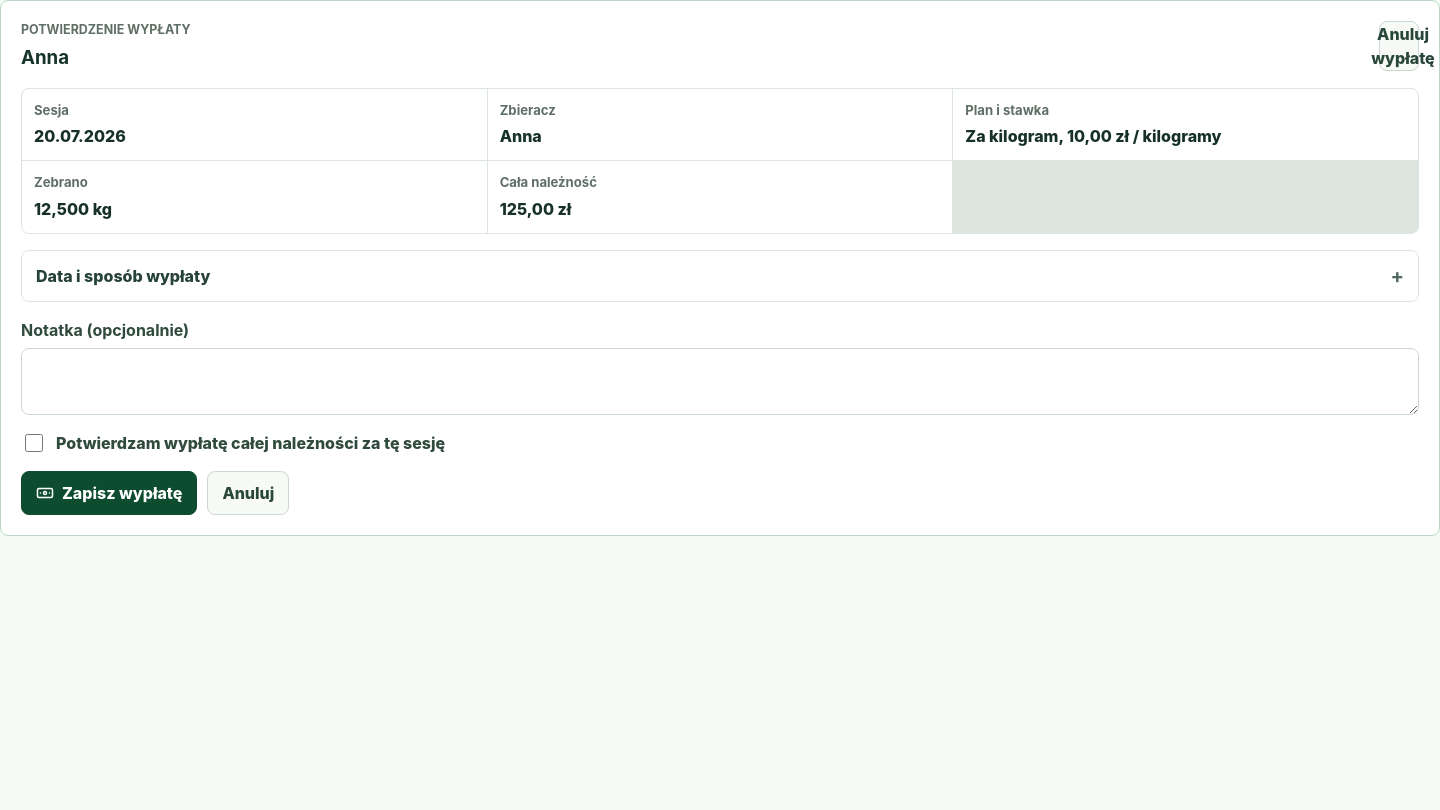
PaymentConfirmationForm › shows the existing author and time as a conflict, not a new success
The width and height of the screenshot is (1440, 810).
Click the checkbox labelled "Potwierdzam wypłatę całej należności za tę sesję" at (34, 443), box top-left (25, 434), bottom-right (43, 452)
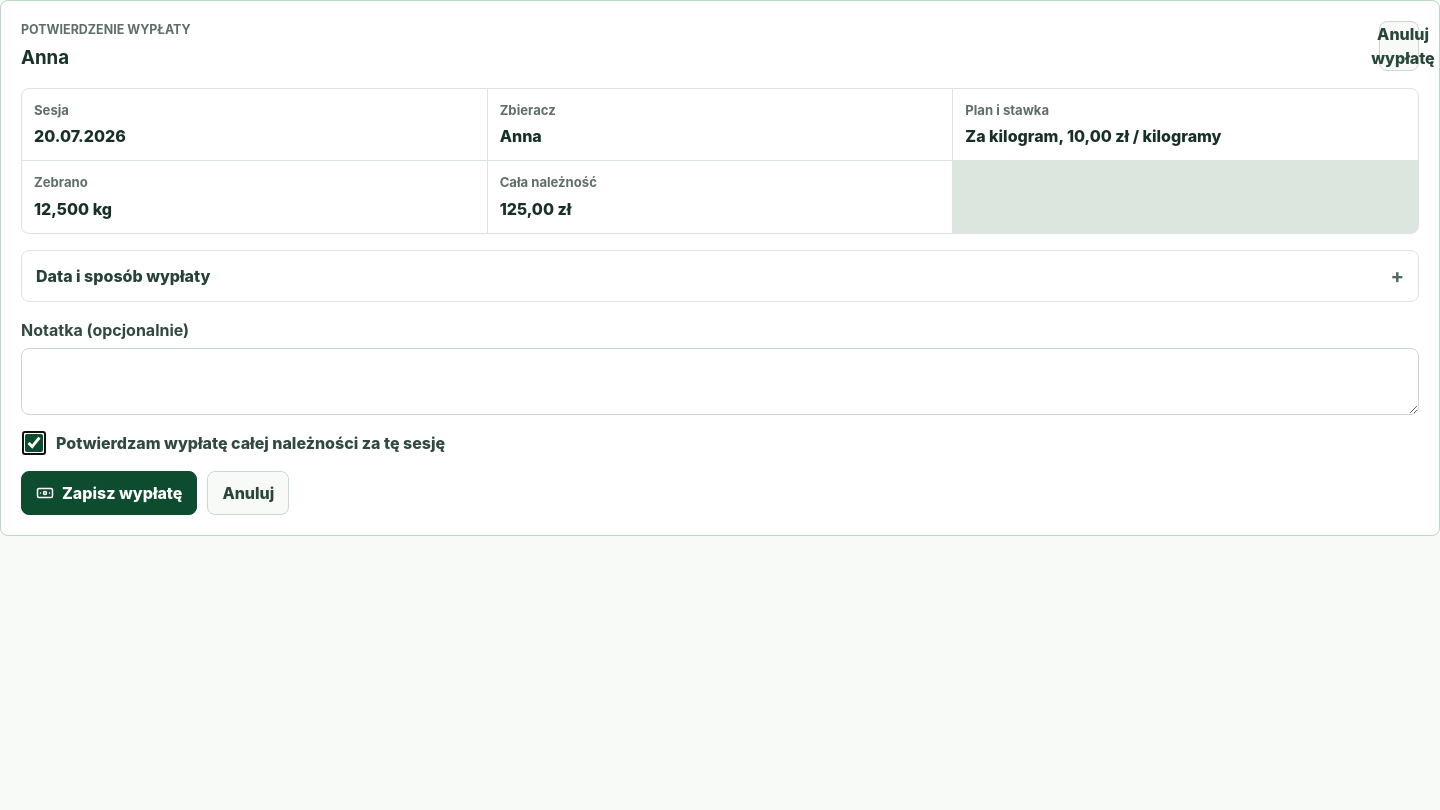
Click the button "Zapisz wypłatę" at (109, 493), box top-left (21, 471), bottom-right (197, 515)
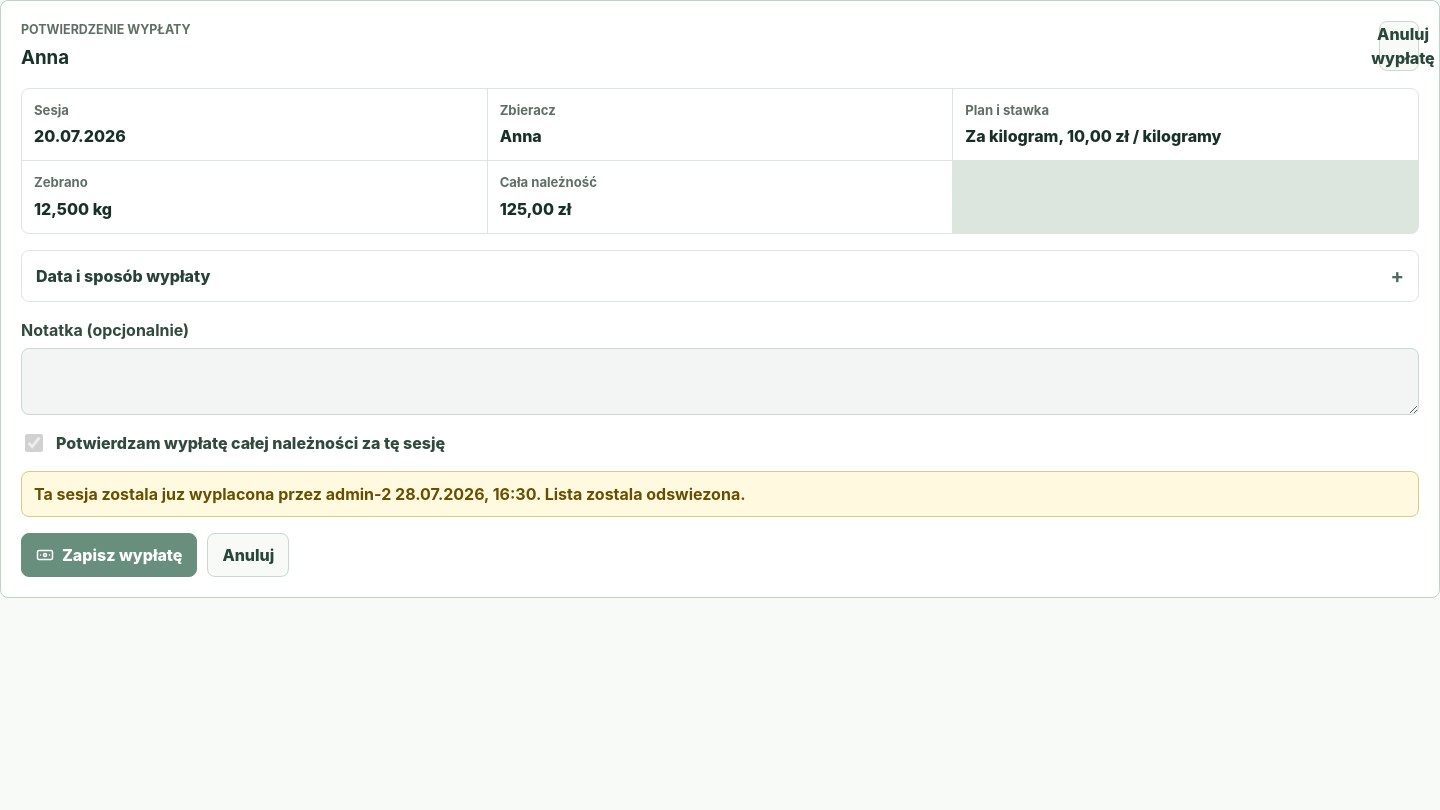
Check: the text "juz wyplacona przez admin-2" shows "28.07.2026, 16:30", box top-left (34, 484), bottom-right (746, 504)
